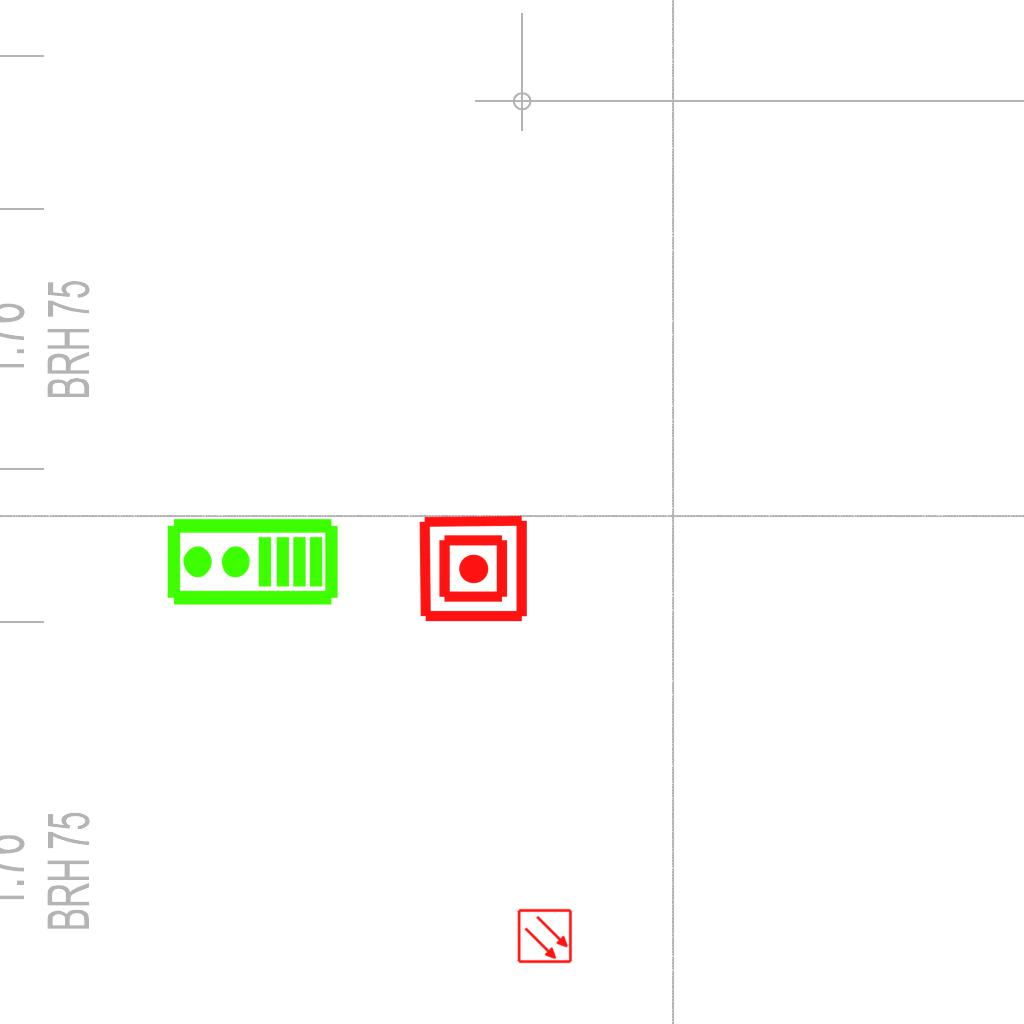Gegensprechanlage_mit_Video: (164, 516, 340, 611)
NAM-Nichtautomatischer_Melder: (417, 512, 530, 625)
RMO_Rauchmelder_optischer: (517, 908, 573, 964)
